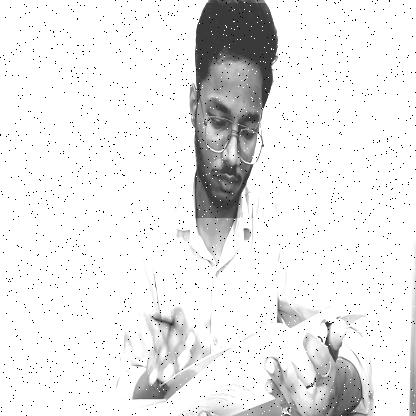Distracted: (187, 3, 278, 218)
